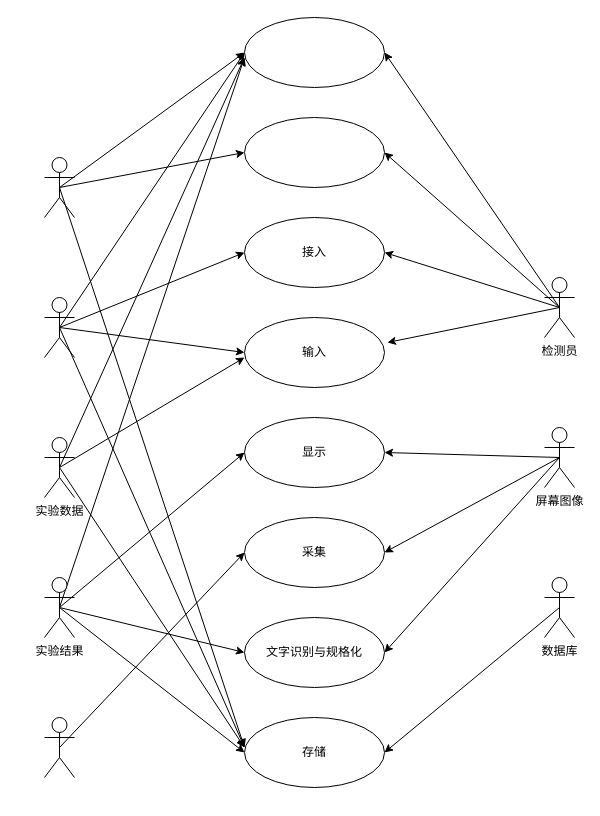
Some shapes in this 600 by 816 pixel diagram are drawn without their labels. The box of each missing label's shape, as (x1, y1, x2, y2) in pixels:
二次压降检测仪: (44, 296, 74, 358)
打印: (244, 116, 384, 188)
查询统计: (244, 16, 384, 88)
检测报告: (44, 156, 74, 218)
采集设备: (44, 716, 74, 778)
